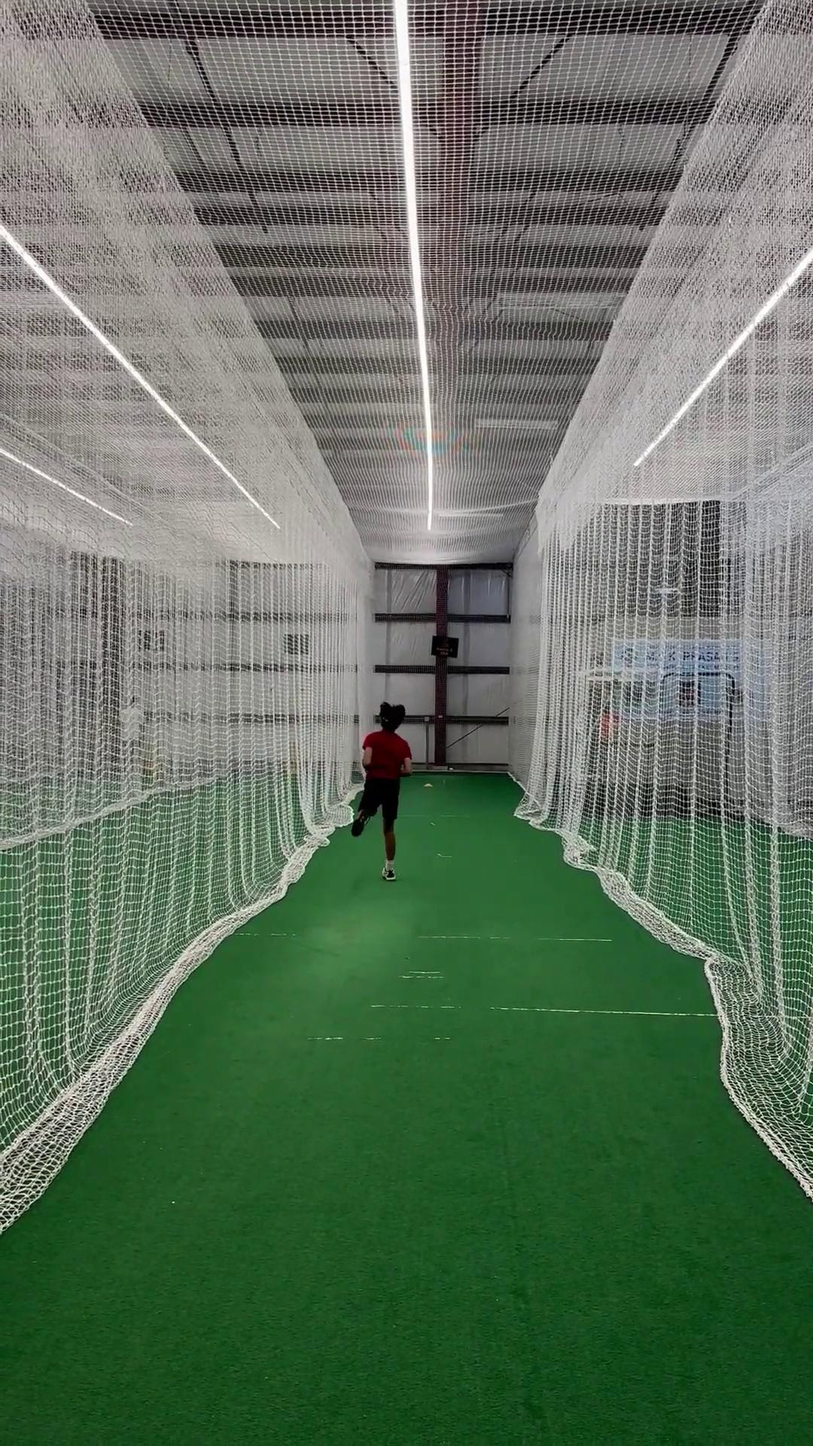ball: (448, 767, 454, 772)
